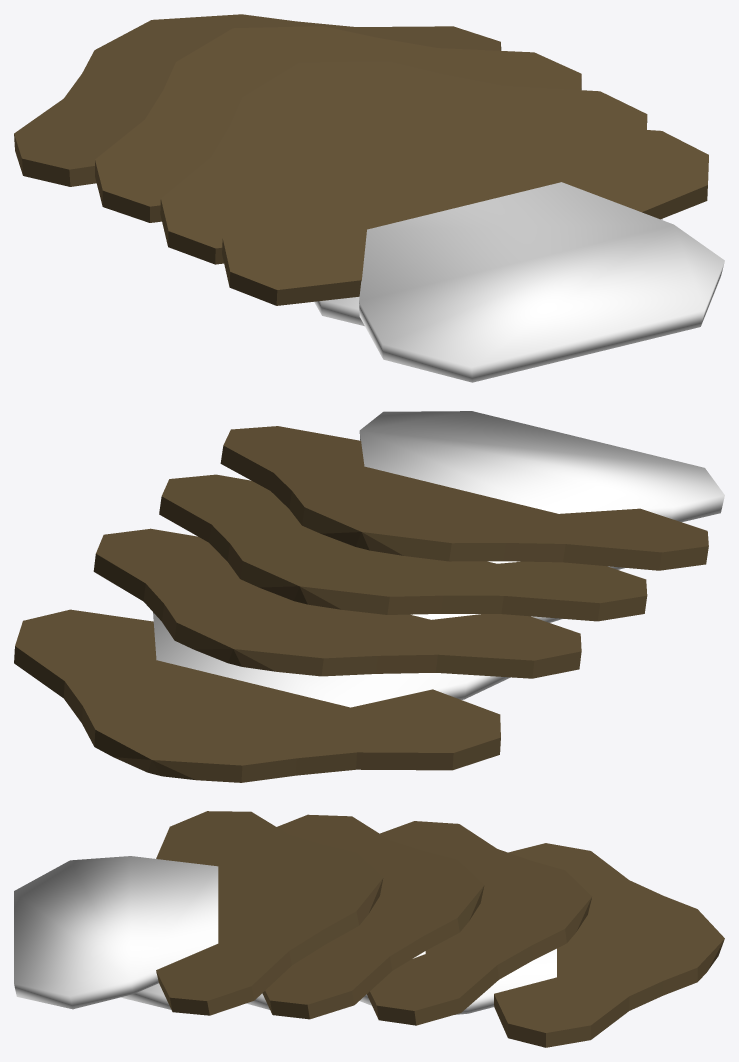
File: Mushroom_Cutted.fbx
3 renders of one model, top to bottom at view 1: azimuth 30°, elevation 25°; view 2: azimuth 150°, elevation 25°; view 3: azimuth 270°, elevation 25°, orthographic. The views are drawn at different scales.
Visible parts, largest first — view 1: Mushroom_Cutted; view 2: Mushroom_Cutted; view 3: Mushroom_Cutted.
Part boxes in pixels (x1,y1,x2,y2): Mushroom_Cutted: (14,14,724,382); Mushroom_Cutted: (14,411,724,782); Mushroom_Cutted: (14,811,724,1047).
Size of the model in its own units: 64.74 by 102 by 11.91.
